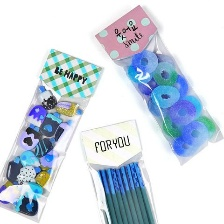snack: (88, 0, 224, 171), (0, 41, 109, 224), (73, 113, 163, 224)
